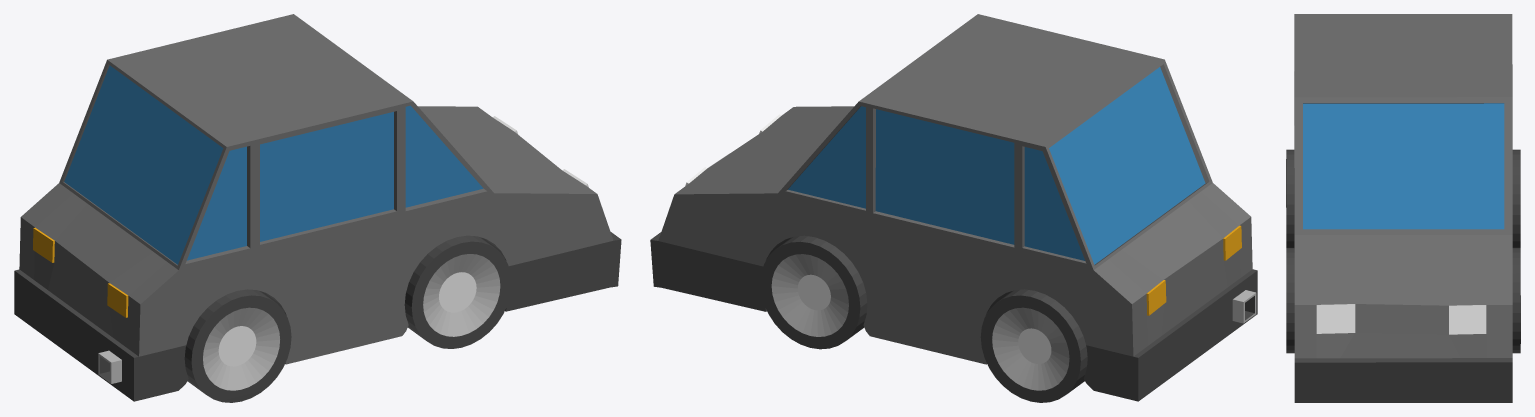
File: car_black.fbx
3 views of the same model, side by side, from view 1: azimuth 30°, elevation 25°; view 2: azimuth 150°, elevation 25°; view 3: azimuth 270°, elevation 25° (orthographic). The views are drawn at different scales.
Visible parts, largest first — view 1: Cube.007, Cylinder.024, Cylinder.023; view 2: Cube.007, Cylinder.022, Cylinder.025; view 3: Cube.007, Cylinder.024, Cylinder.022, Cylinder.023, Cylinder.025.
Boxes of the visible parts, <box> form: Cube.007: <box>14,14,621,401</box>; Cylinder.024: <box>404,235,511,348</box>; Cylinder.023: <box>184,289,291,402</box>; Cube.007: <box>650,14,1257,401</box>; Cylinder.022: <box>760,235,867,349</box>; Cylinder.025: <box>980,289,1087,402</box>; Cube.007: <box>1294,14,1512,402</box>; Cylinder.024: <box>1286,248,1294,353</box>; Cylinder.022: <box>1512,248,1520,353</box>; Cylinder.023: <box>1286,149,1294,247</box>; Cylinder.025: <box>1512,149,1520,247</box>.
Bounding box in the file's own units: 206 × 100 × 91.88.
